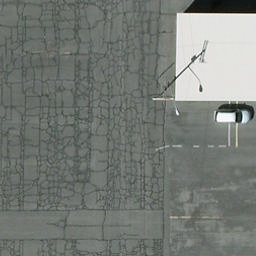car: (213, 110, 254, 126)
